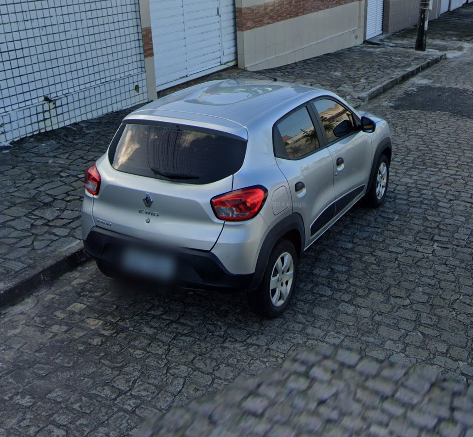car: (78, 74, 395, 321)
